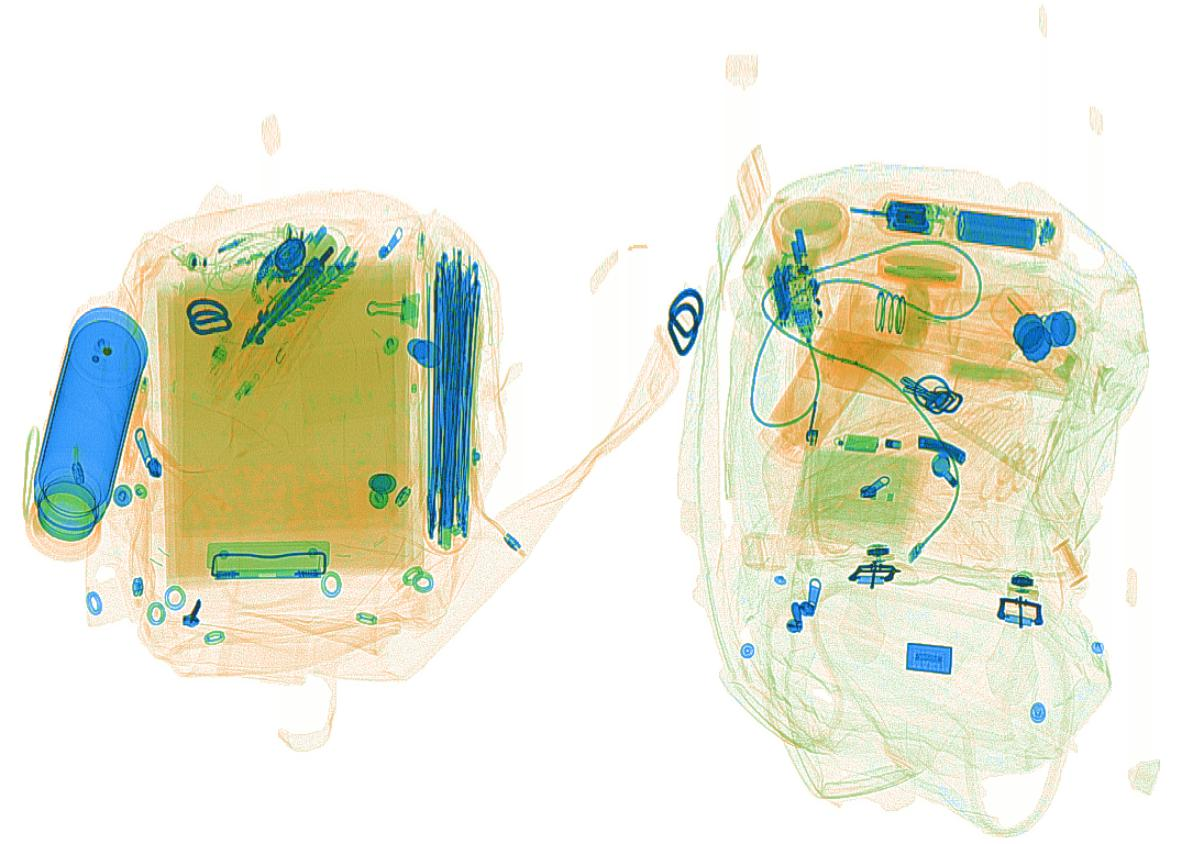battery: (956, 208, 1039, 251), (916, 434, 966, 467)
